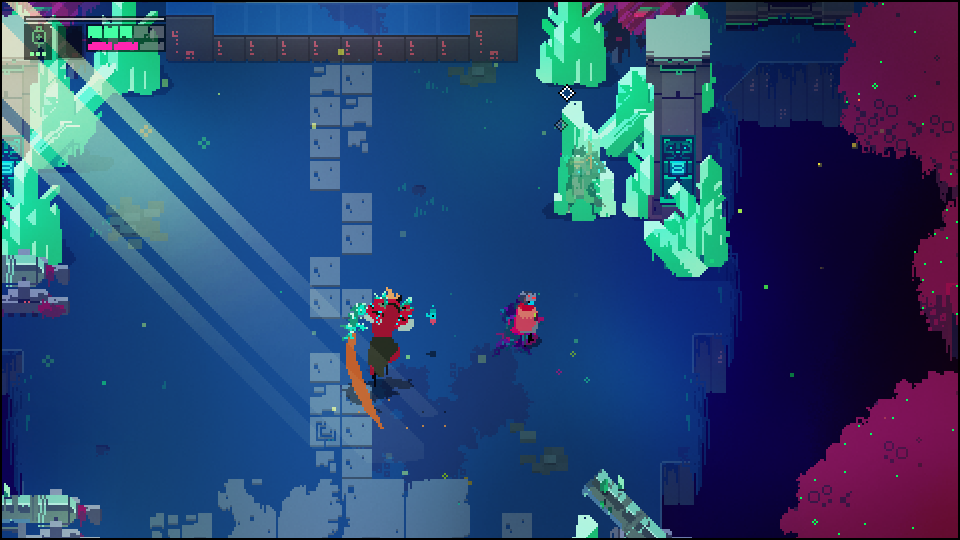hanged_man: (335, 286, 415, 397)
player: (517, 290, 540, 346)
